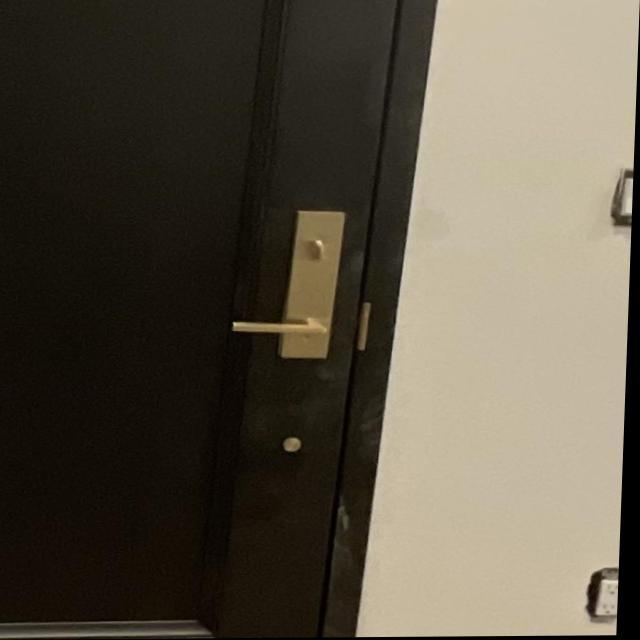door_handle: (225, 306, 352, 350)
